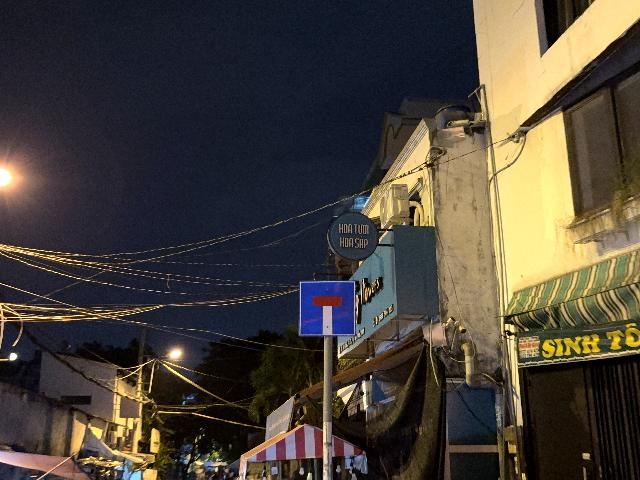duong-cut: (299, 281, 356, 336)
